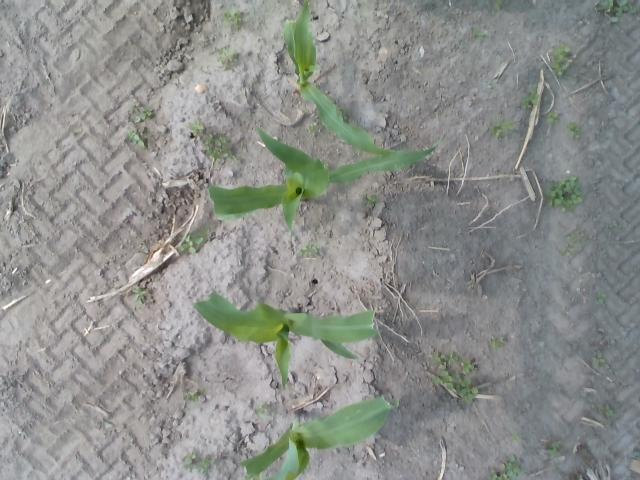Maize: (208, 126, 447, 230), (194, 290, 382, 393), (281, 0, 400, 157), (238, 397, 400, 480)
Weeds: (546, 176, 582, 207), (205, 130, 235, 162), (548, 44, 572, 77), (500, 456, 520, 480), (594, 0, 636, 11), (458, 377, 477, 400), (435, 372, 457, 391), (181, 237, 204, 253), (130, 128, 148, 147), (218, 53, 238, 70), (180, 454, 197, 473), (496, 119, 516, 135), (132, 108, 152, 123), (520, 94, 538, 110), (132, 287, 148, 304), (225, 8, 242, 24), (460, 358, 475, 376), (190, 117, 203, 134), (199, 457, 211, 475), (254, 404, 272, 416), (567, 122, 580, 138), (490, 469, 508, 480), (363, 192, 377, 206), (302, 244, 318, 256), (600, 404, 616, 416), (473, 26, 488, 38), (548, 110, 562, 122), (489, 336, 505, 346), (605, 12, 618, 24), (183, 390, 198, 400), (491, 0, 504, 11), (432, 350, 446, 360), (598, 291, 607, 306), (594, 357, 605, 368), (547, 448, 559, 458), (446, 352, 456, 362), (562, 246, 572, 255), (440, 362, 448, 370), (510, 435, 520, 441), (551, 440, 560, 446), (570, 236, 577, 242), (612, 221, 618, 227)
